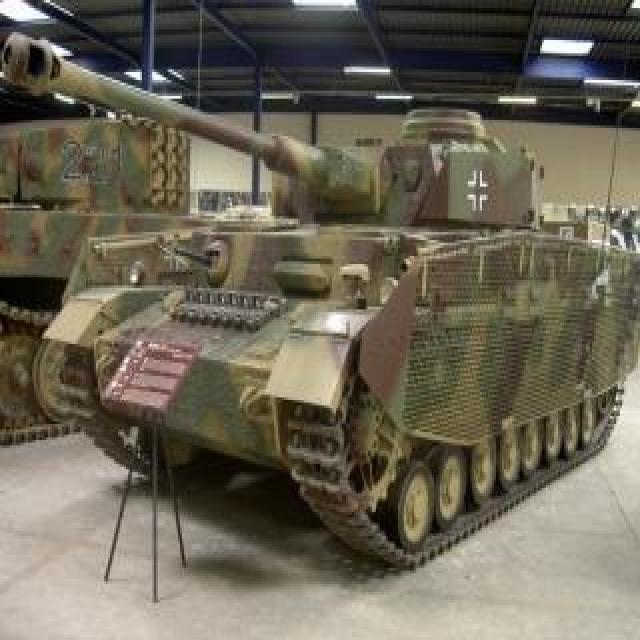Tanks: (23, 81, 633, 554)
